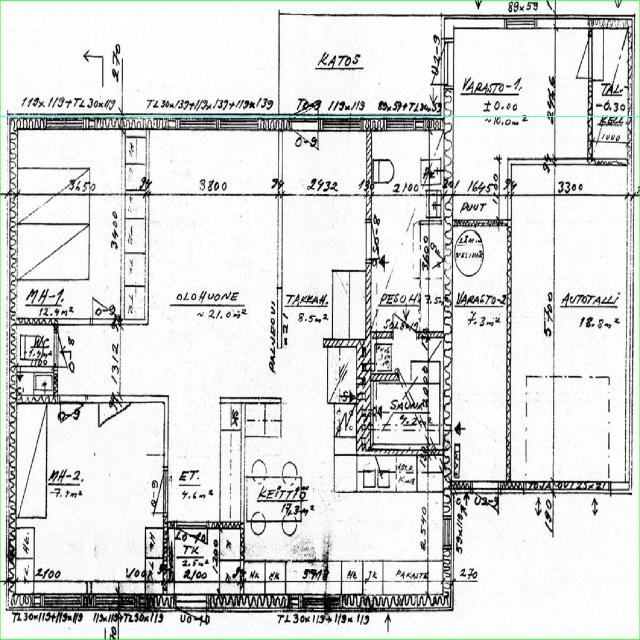door: (98, 395, 130, 454), (413, 40, 453, 84), (177, 522, 207, 576), (291, 72, 318, 131), (291, 115, 318, 174), (472, 482, 499, 537), (93, 276, 119, 325), (137, 471, 168, 512), (562, 35, 592, 76), (366, 222, 396, 259), (392, 294, 417, 338), (54, 330, 80, 366)
